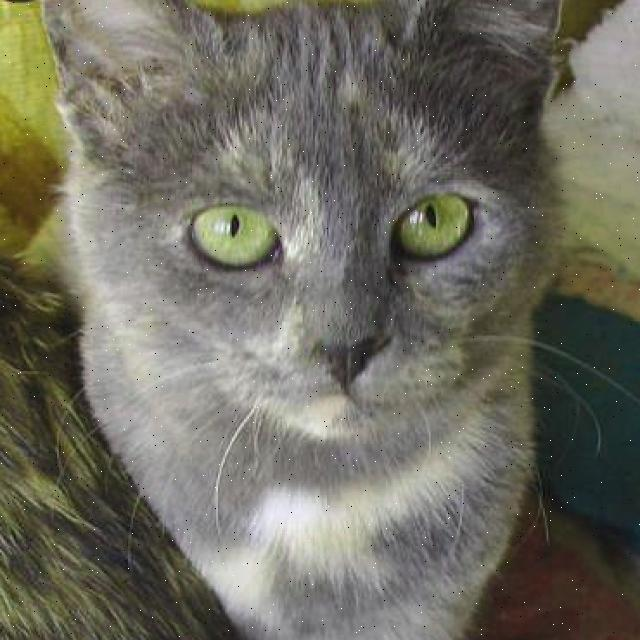Cat: (52, 0, 585, 462)
